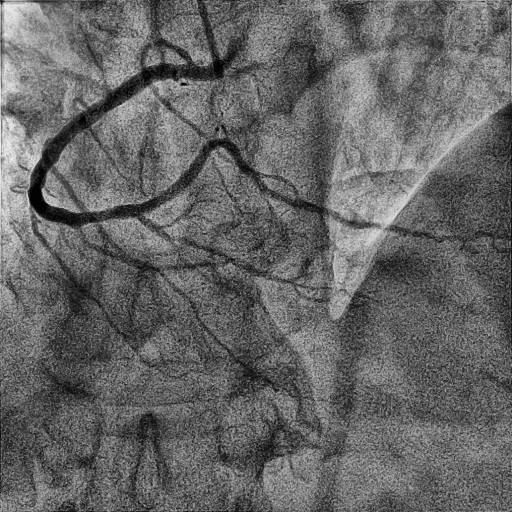pborca: (138, 140, 442, 242)
pda: (136, 208, 334, 291)
rca: (28, 63, 217, 226)
